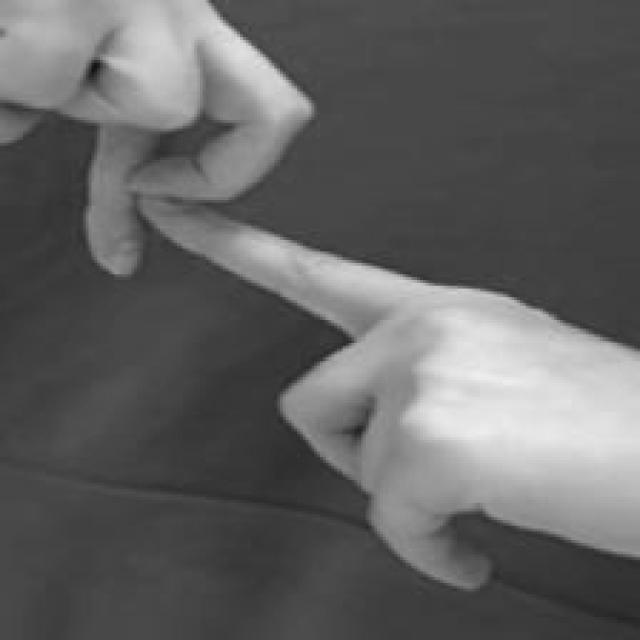R: (5, 2, 639, 602)
